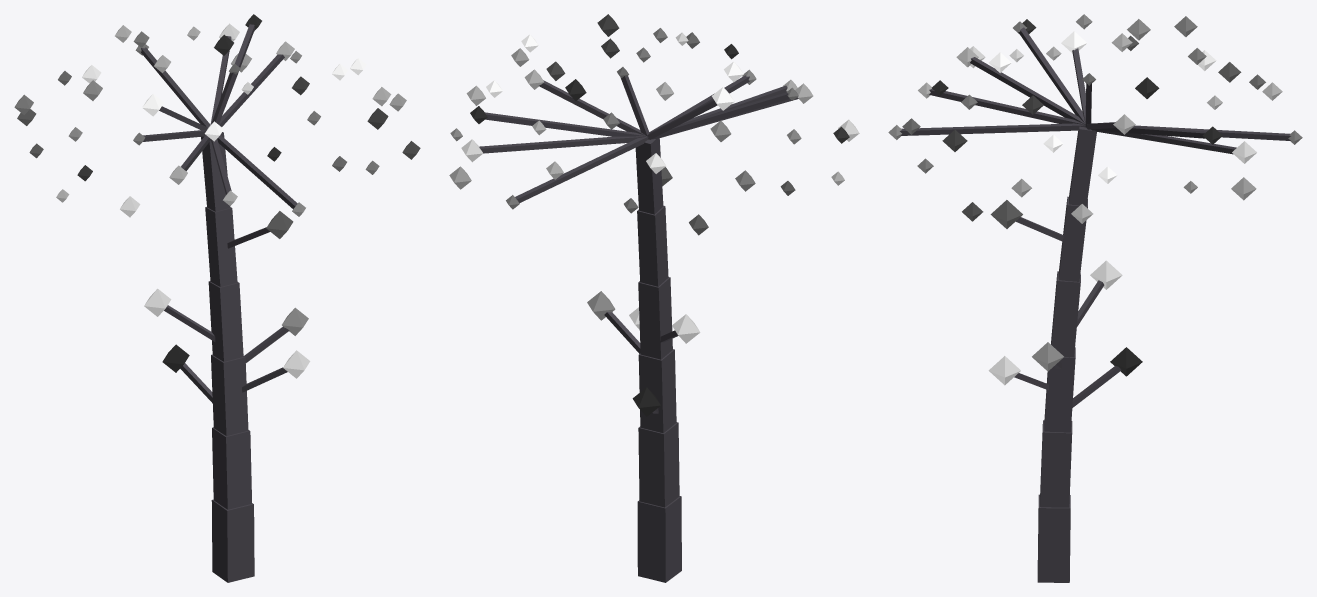
The model's file is umbel_sapling.glb.
3 renders of one model, left to right at view 1: azimuth 30°, elevation 25°; view 2: azimuth 150°, elevation 25°; view 3: azimuth 270°, elevation 25°, orthographic. The views are drawn at different scales.
Visible parts, largest first — view 1: umbel_sapling; view 2: umbel_sapling; view 3: umbel_sapling.
Part boxes in pixels (x1,y1,x2,y2): umbel_sapling: (14,14,420,582); umbel_sapling: (449,14,859,582); umbel_sapling: (888,14,1302,582).
Size of the model in its own units: 2.29 by 3.18 by 2.27.
Materials: 2 (1 with a texture image).
